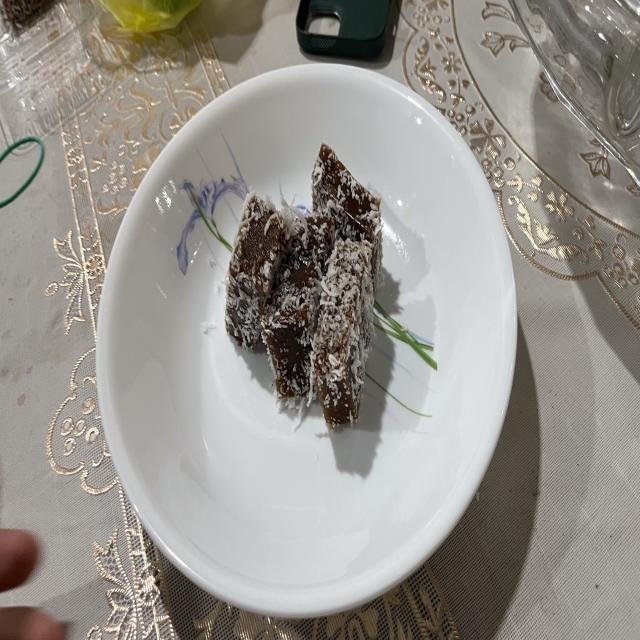kaswi: (260, 213, 335, 400), (311, 240, 374, 429), (225, 191, 296, 349), (312, 144, 382, 289)
